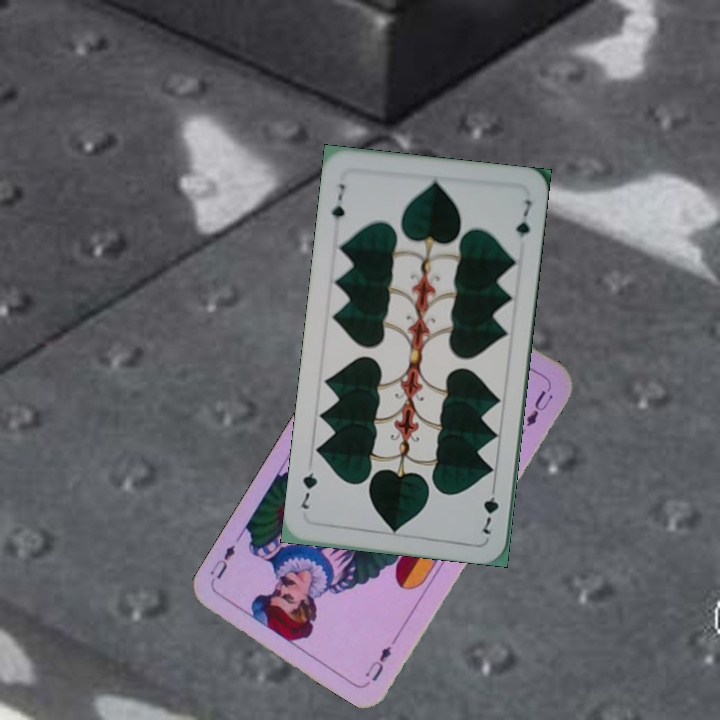EU: (361, 641, 394, 684)
G7: (479, 480, 502, 537), (327, 179, 348, 223)
